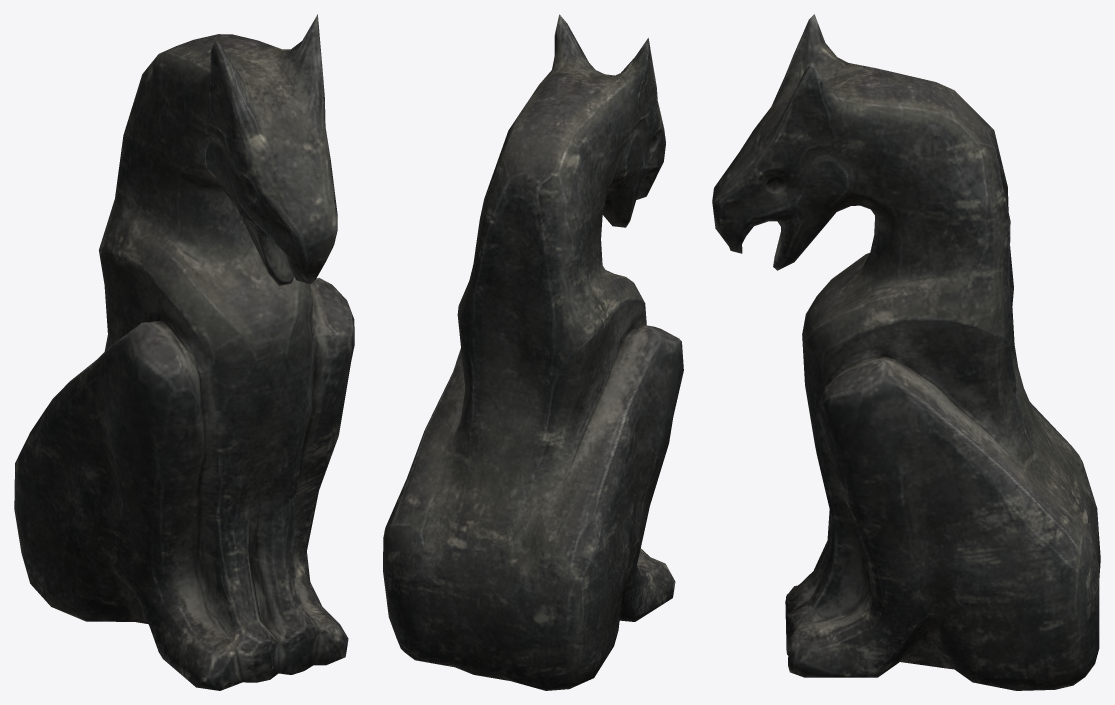
The picture shows the model from 3 angles, left to right: view 1: azimuth 30°, elevation 25°; view 2: azimuth 150°, elevation 25°; view 3: azimuth 270°, elevation 25°; orthographic projection. The views are drawn at different scales.
Visible parts, largest first — view 1: staue1; view 2: staue1; view 3: staue1.
Boxes of the visible parts, bbox=[...] form: staue1: bbox=[14, 14, 354, 690]; staue1: bbox=[383, 14, 683, 690]; staue1: bbox=[712, 14, 1100, 690].
Bounding box in the file's own units: 3.02 × 7.79 × 4.49.
1 material, 1 textured.
